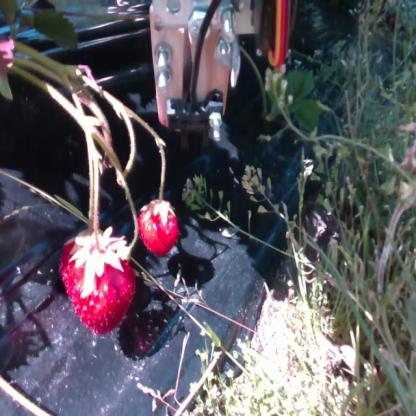ripe: (62, 237, 136, 333), (138, 203, 176, 256)
